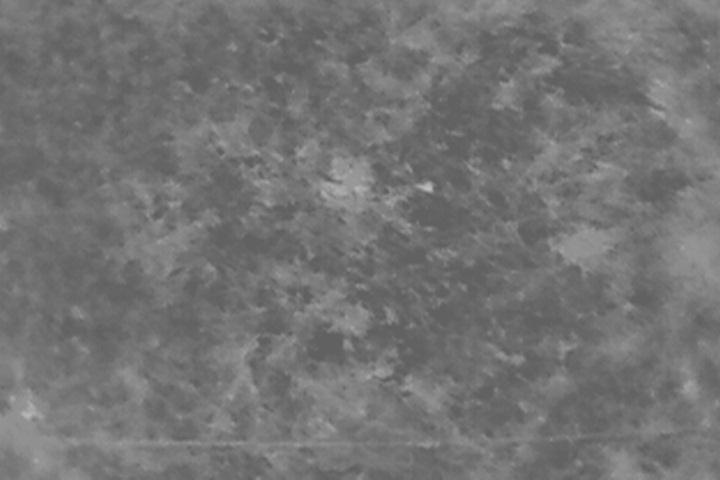landmine: (322, 160, 371, 214)
